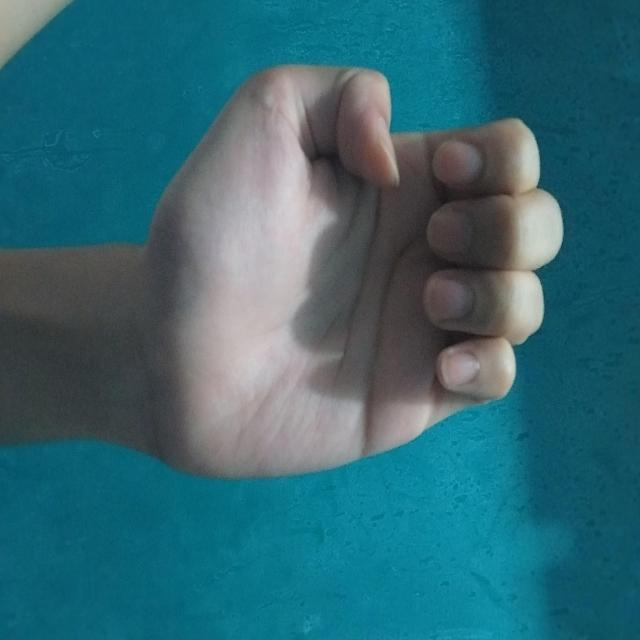E: (59, 71, 485, 487)
